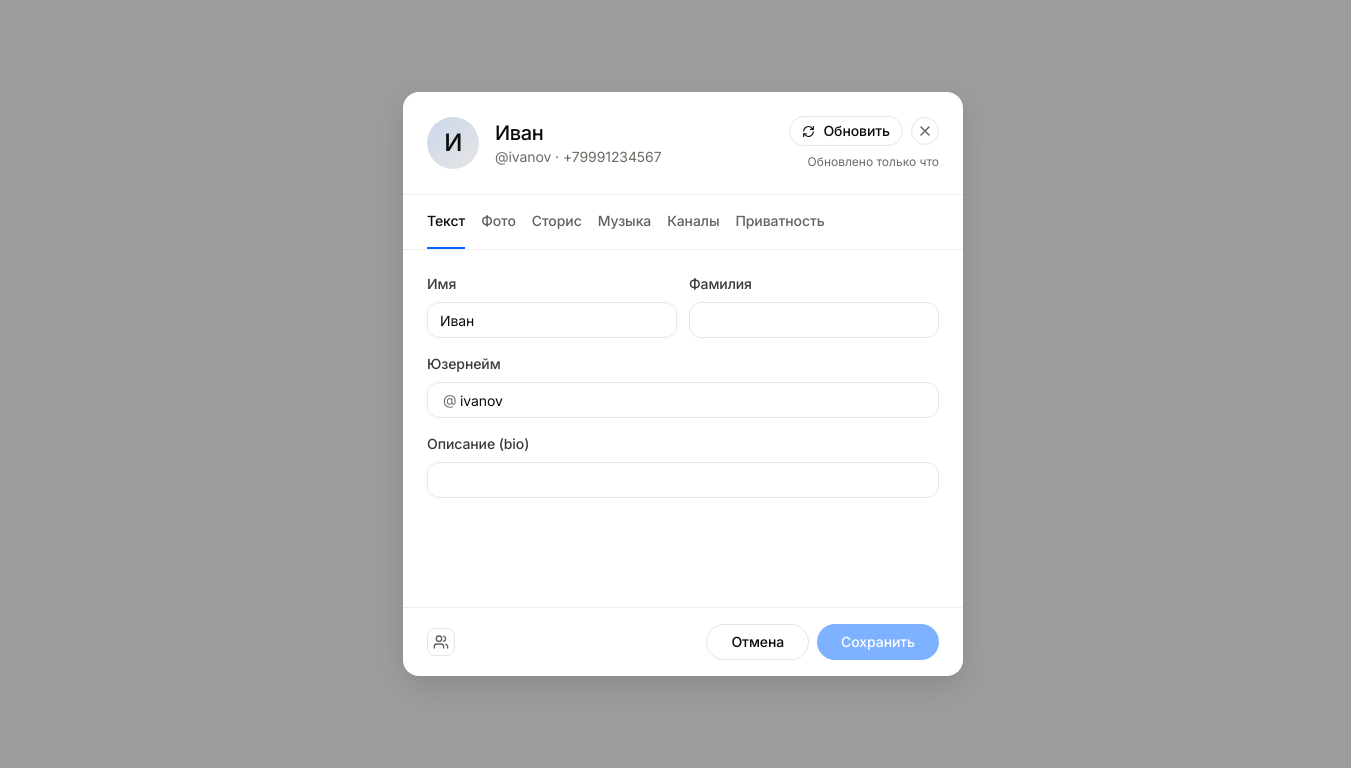
Test case: refresh syncs the bio even when other fresh fields are null
Click the button "Обновить".
click(846, 131)  # box [789,116,903,146]
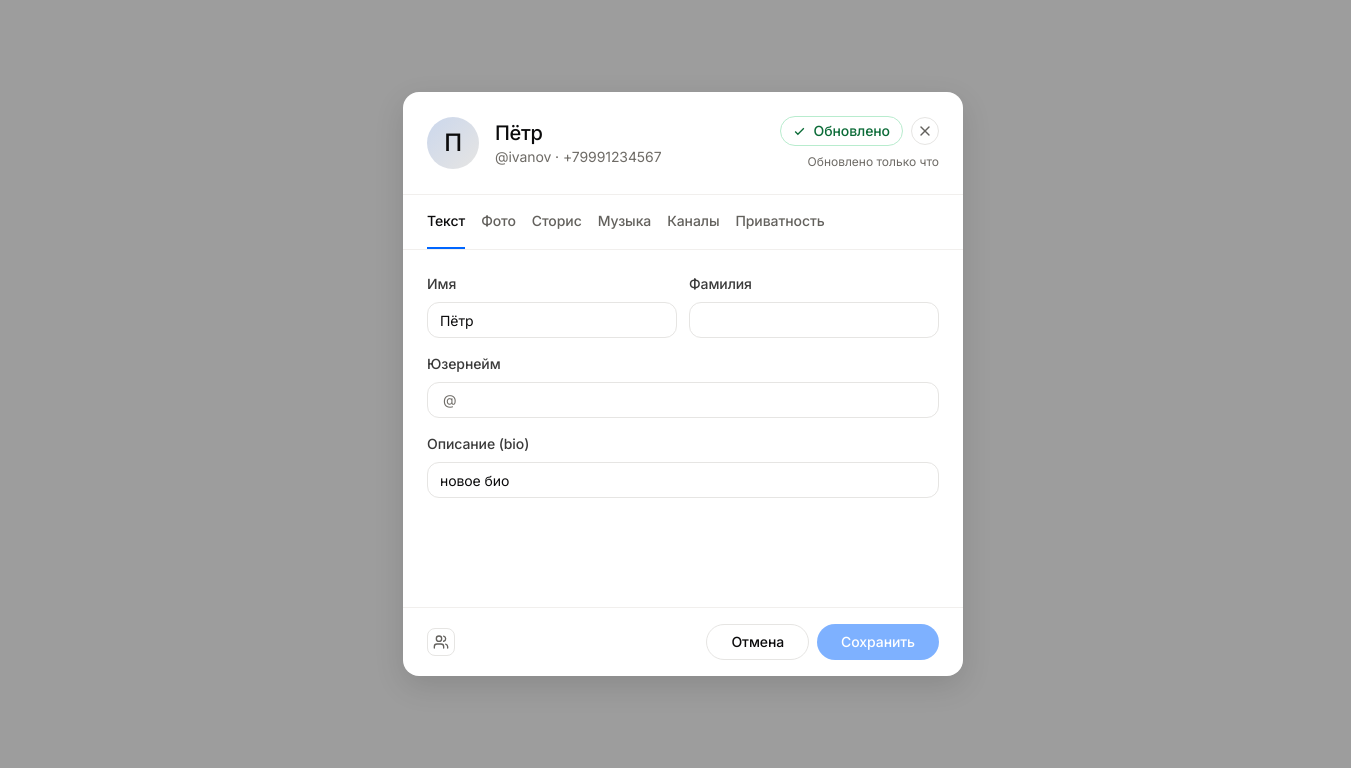
expect the text box showing "новое био" is shown: met, box [427,462,939,498]
expect the field showing "Пётр" is shown: met, box [427,302,677,338]
